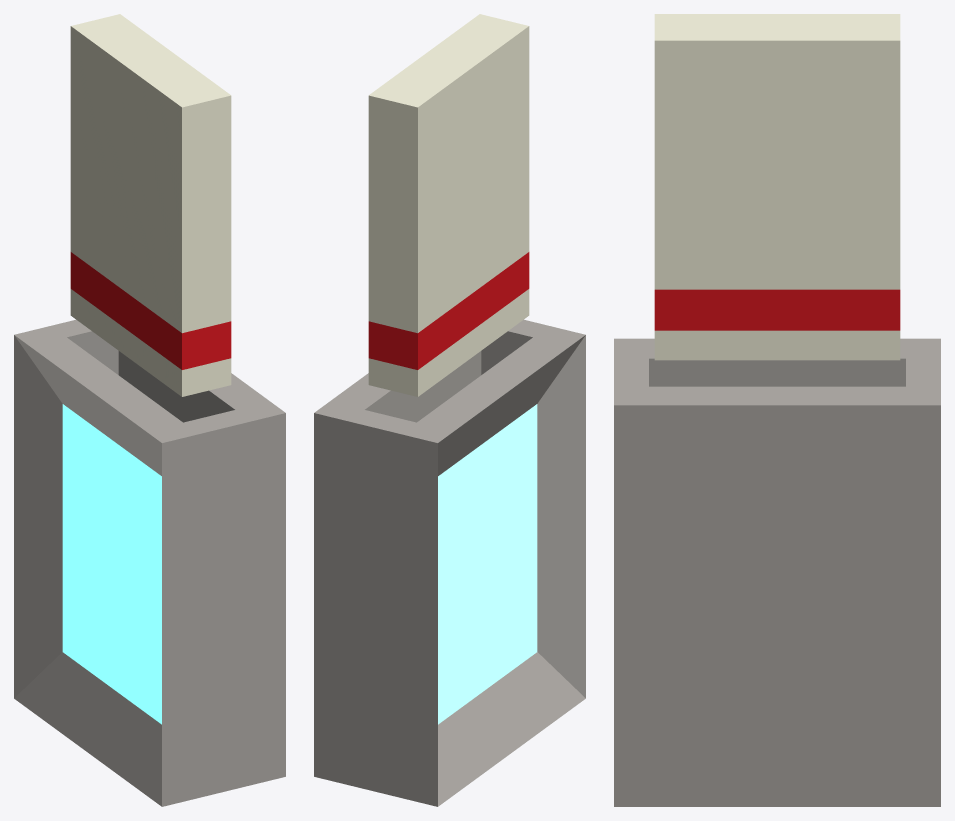
The model's file is KeyReader.fbx.
3 renders of one model, left to right at view 1: azimuth 30°, elevation 25°; view 2: azimuth 150°, elevation 25°; view 3: azimuth 270°, elevation 25°, orthographic. The views are drawn at different scales.
Visible parts, largest first — view 1: KeyReader, Keycard; view 2: KeyReader, Keycard; view 3: KeyReader, Keycard.
Boxes of the visible parts, x1,y1,x2,y2 form: KeyReader: [14, 319, 285, 806]; Keycard: [70, 14, 231, 396]; KeyReader: [314, 319, 585, 806]; Keycard: [368, 14, 529, 396]; KeyReader: [614, 338, 940, 806]; Keycard: [654, 14, 900, 360].
Bounding box in the file's own units: 71.27 × 372 × 148.
